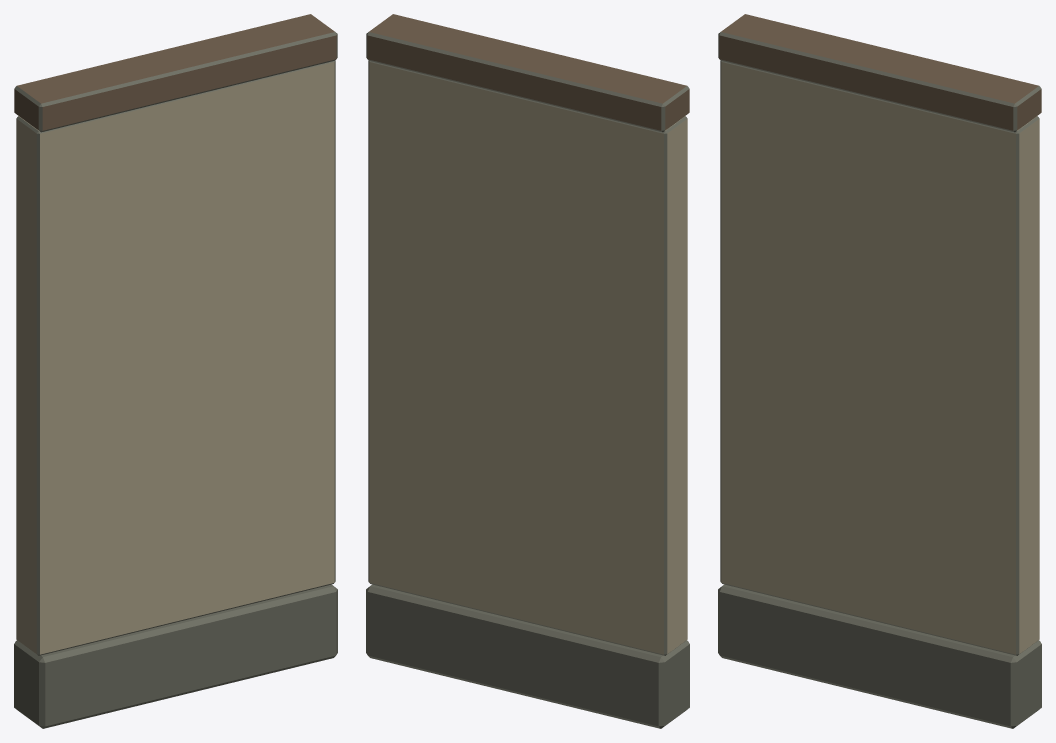
Rendered from wall_plaster.glb.
3 renders of one model, left to right at view 1: azimuth 30°, elevation 25°; view 2: azimuth 150°, elevation 25°; view 3: azimuth 330°, elevation 25°, orthographic.
Visible parts, largest first — view 1: Wall_Plaster; view 2: Wall_Plaster; view 3: Wall_Plaster.
Part boxes in pixels (box(x1,y1,x2,y2)): Wall_Plaster: box(14, 14, 337, 728); Wall_Plaster: box(366, 14, 689, 728); Wall_Plaster: box(718, 14, 1041, 728).
Size of the model in its own units: 1.52 by 3.05 by 0.26.
